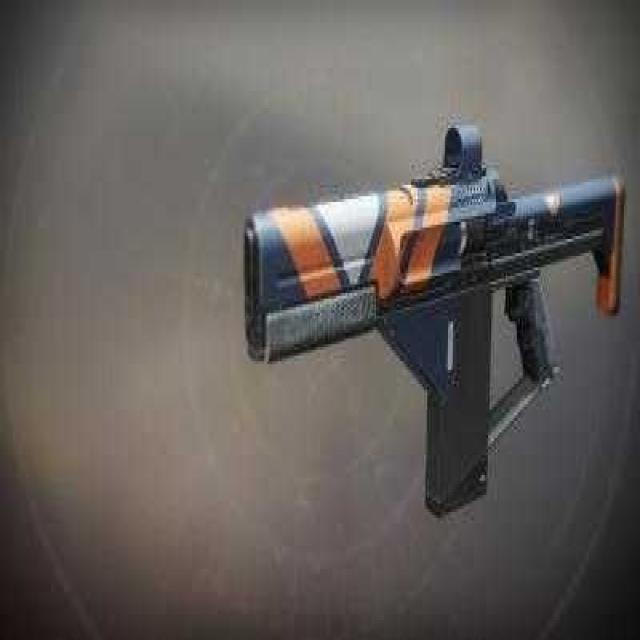heavyweapon: (214, 126, 633, 502)
